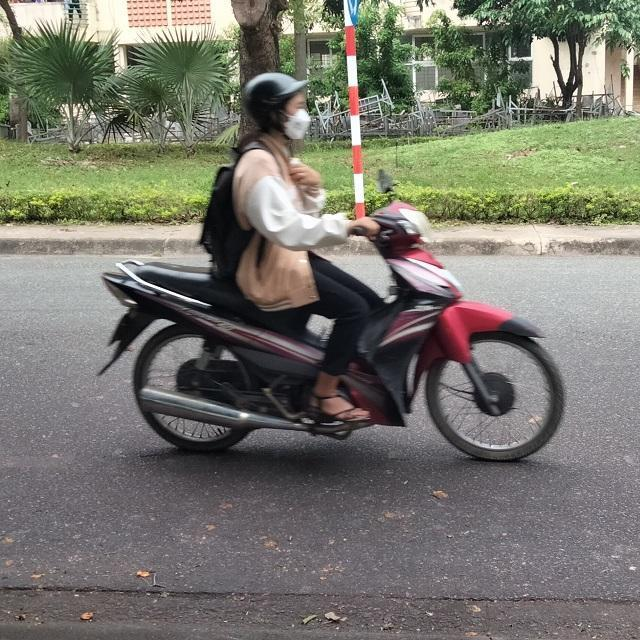Helmet: (246, 68, 318, 144)
